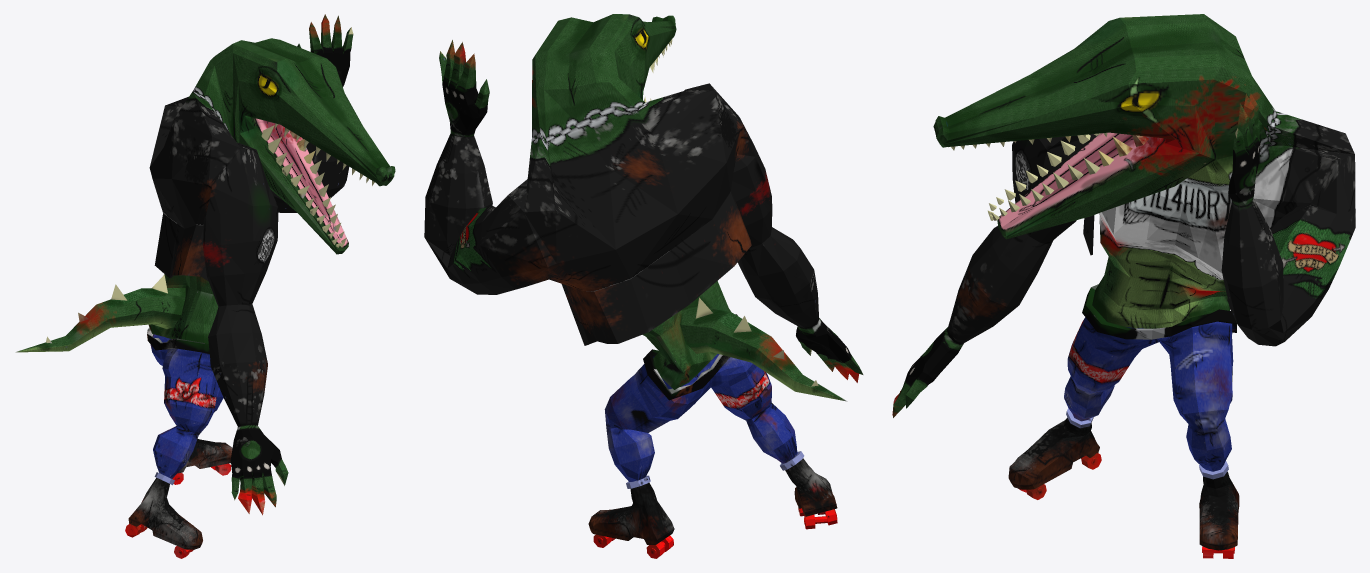
Rendered from cocodrilaBonesSelect_000041.obj.
3 views of the same model, side by side, from view 1: azimuth 30°, elevation 25°; view 2: azimuth 150°, elevation 25°; view 3: azimuth 270°, elevation 25° (orthographic). The views are drawn at different scales.
Visible parts, largest first — view 1: Crocodile.002_Cylinder.002; view 2: Crocodile.002_Cylinder.002; view 3: Crocodile.002_Cylinder.002.
Boxes of the visible parts, <box> form: Crocodile.002_Cylinder.002: <box>15,14,395,558</box>; Crocodile.002_Cylinder.002: <box>424,14,863,558</box>; Crocodile.002_Cylinder.002: <box>892,14,1355,558</box>.
Bounding box in the file's own units: 5.22 × 6.18 × 4.67.
